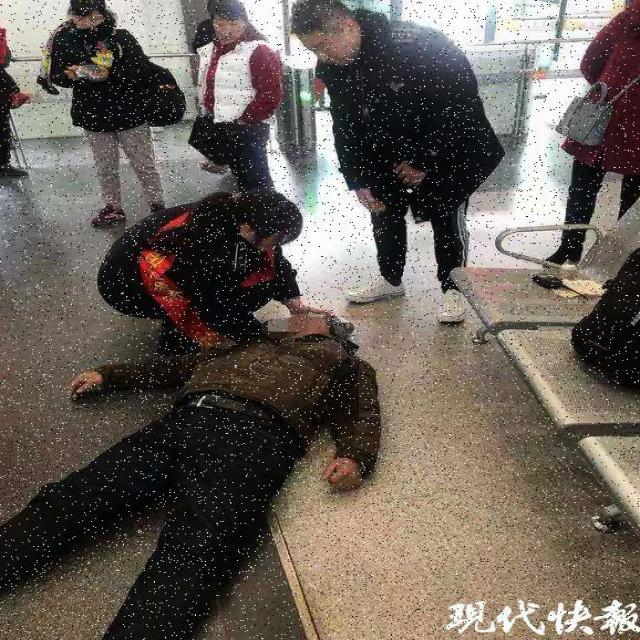fall: (0, 313, 380, 616)
